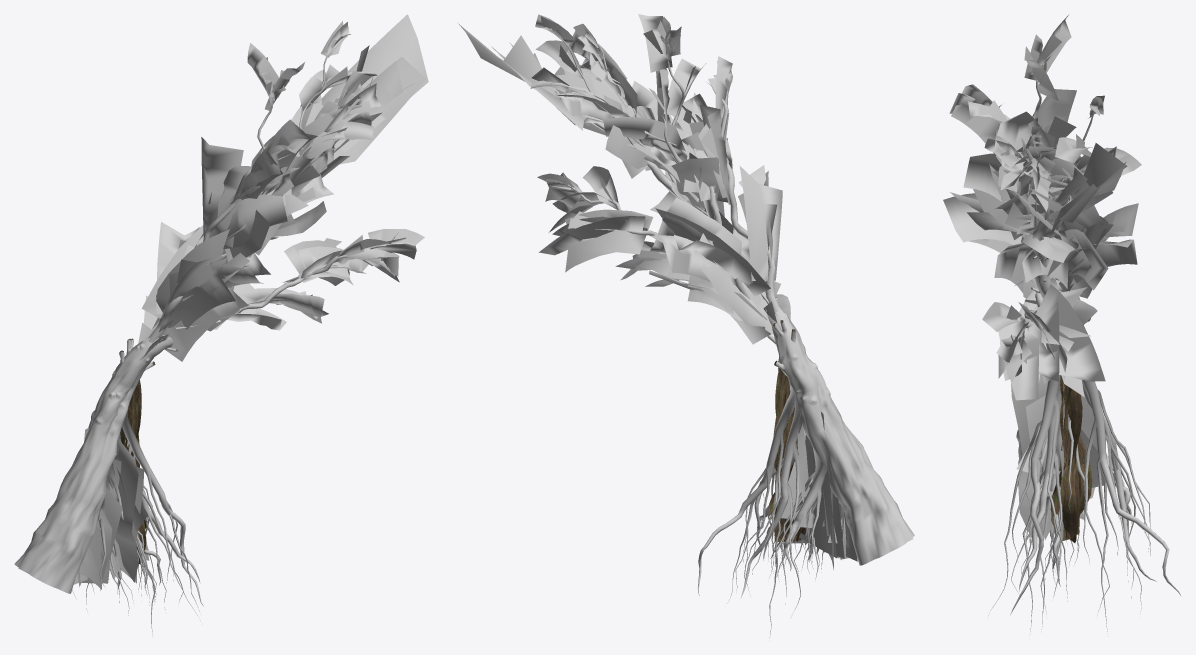
File: Tree_05_2.fbx
3 renders of one model, left to right at view 1: azimuth 30°, elevation 25°; view 2: azimuth 150°, elevation 25°; view 3: azimuth 270°, elevation 25°, orthographic. The views are drawn at different scales.
Parts seen in each view (by area): view 1: polySurface2329; view 2: polySurface2329; view 3: polySurface2329.
Boxes of the visible parts, left/top/right/bottom form: polySurface2329: left=14, top=14, right=428, bottom=635; polySurface2329: left=457, top=14, right=914, bottom=637; polySurface2329: left=943, top=15, right=1181, bottom=635.
Size of the model in its own units: 1025 by 1312 by 414.
